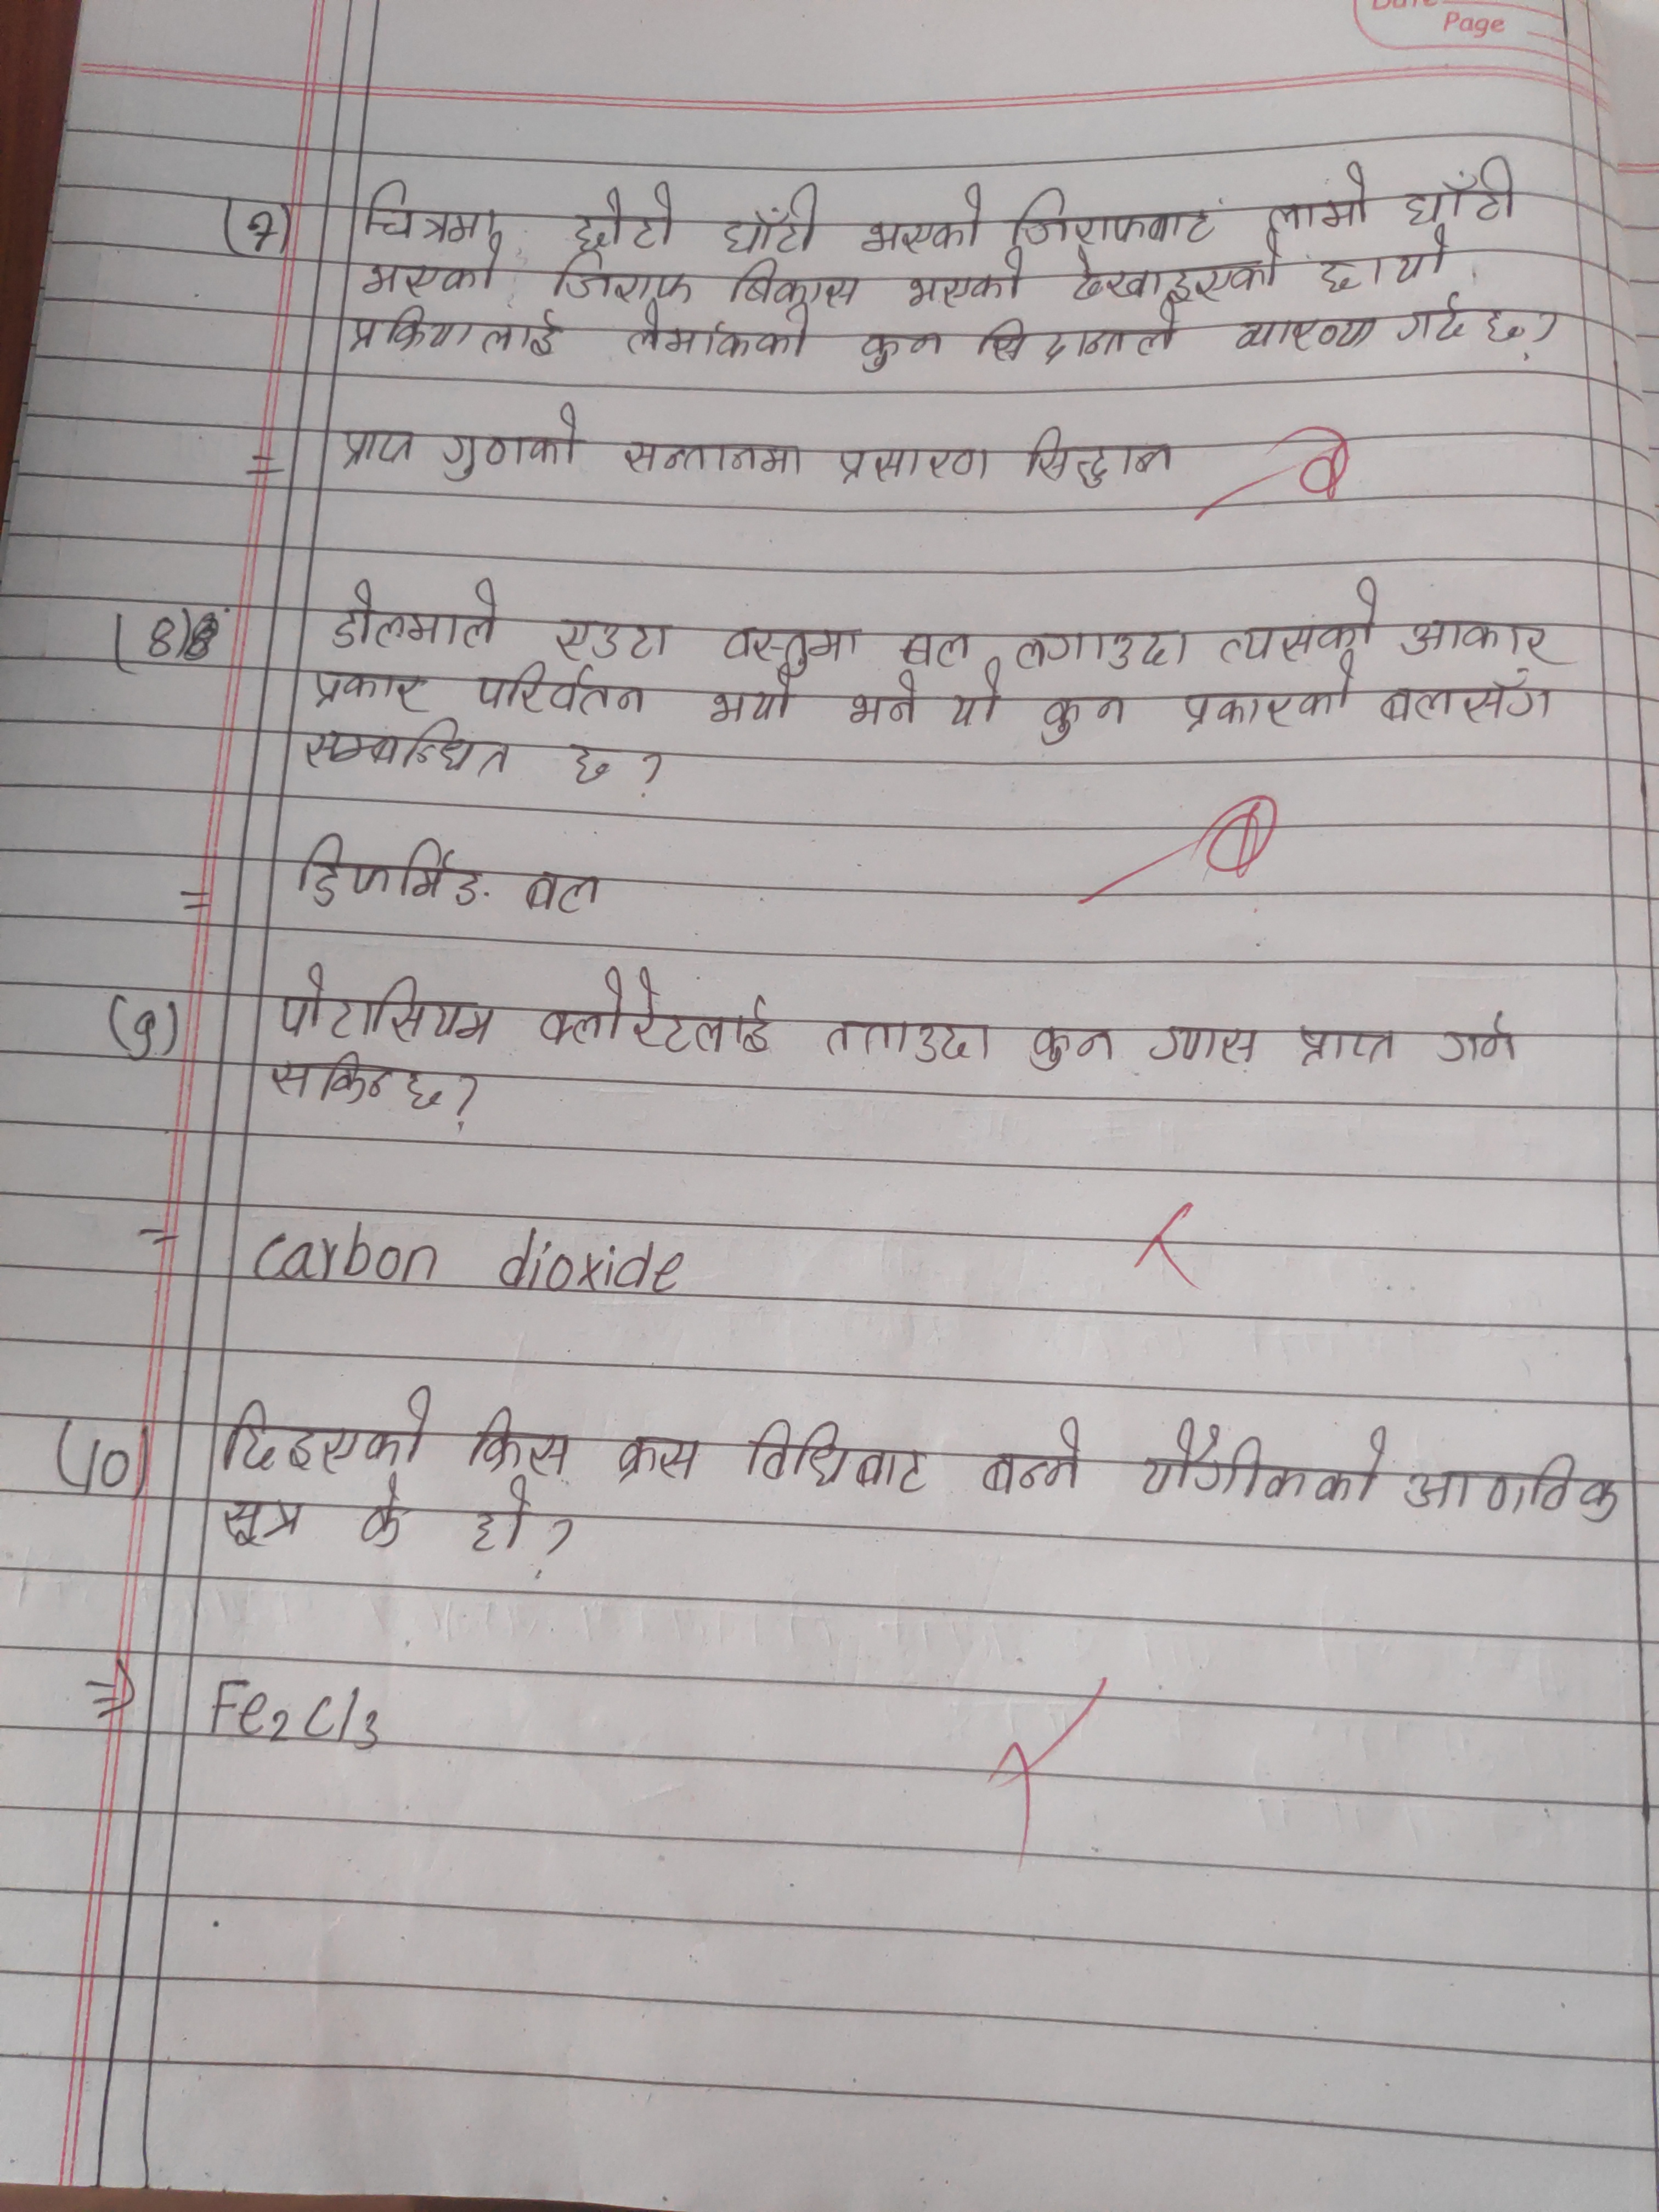text: (1134, 1411, 1394, 1512), (532, 963, 775, 1064), (270, 956, 502, 1050), (1398, 1446, 1626, 1533), (289, 824, 497, 918), (211, 1388, 436, 1470), (735, 1409, 932, 1501), (291, 714, 518, 787), (972, 298, 1188, 371), (329, 571, 504, 658), (1164, 658, 1371, 730), (267, 1042, 451, 1122), (1004, 185, 1222, 251), (1215, 573, 1373, 662), (347, 303, 572, 364), (432, 397, 587, 482), (622, 294, 812, 364), (1056, 242, 1284, 300), (612, 428, 816, 489), (1368, 671, 1563, 733), (462, 662, 660, 721), (807, 1012, 1004, 1071), (1014, 421, 1180, 491), (847, 181, 992, 258), (971, 1409, 1093, 1500), (1394, 604, 1567, 665), (354, 172, 500, 242), (824, 434, 999, 491), (1394, 148, 1521, 226), (565, 178, 681, 258), (545, 246, 699, 307), (708, 617, 864, 674), (540, 606, 676, 671), (462, 1406, 575, 1480), (721, 183, 830, 261), (1011, 625, 1190, 672), (896, 256, 1039, 314), (1220, 308, 1387, 357), (1269, 160, 1375, 233), (305, 658, 441, 714), (1138, 1017, 1263, 1076), (727, 258, 861, 312), (1290, 1019, 1405, 1080), (361, 249, 509, 296), (1030, 688, 1147, 747), (460, 1477, 535, 1568), (514, 857, 615, 920), (606, 1426, 708, 1489), (1424, 1010, 1527, 1071), (1021, 1017, 1121, 1076), (849, 326, 951, 381), (840, 669, 924, 737), (702, 672, 807, 726), (211, 1493, 308, 1548), (329, 416, 418, 470), (946, 669, 1011, 735), (554, 733, 622, 796), (1389, 225, 1459, 286), (356, 1468, 406, 1552), (1396, 296, 1473, 348), (894, 622, 972, 671), (1310, 249, 1361, 303), (1476, 307, 1528, 348)
